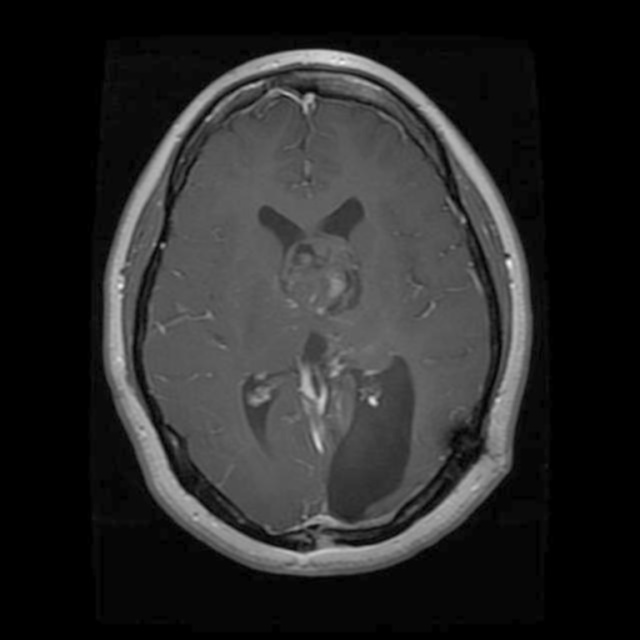pituitary tumor: (278, 236, 362, 315)
